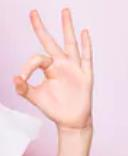left: (11, 5, 96, 124)
